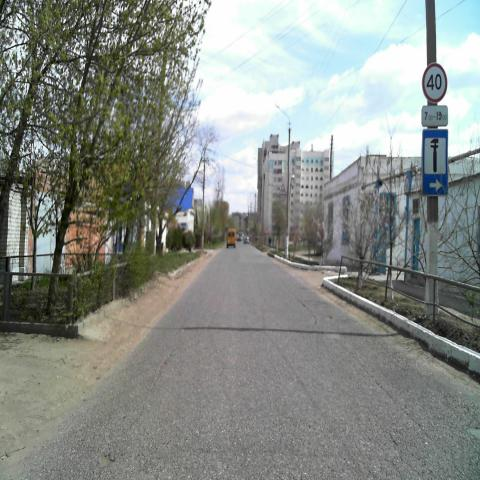3_2: (404, 176, 410, 197)
7_4: (422, 126, 448, 195)
8_5_4: (421, 105, 448, 127)
